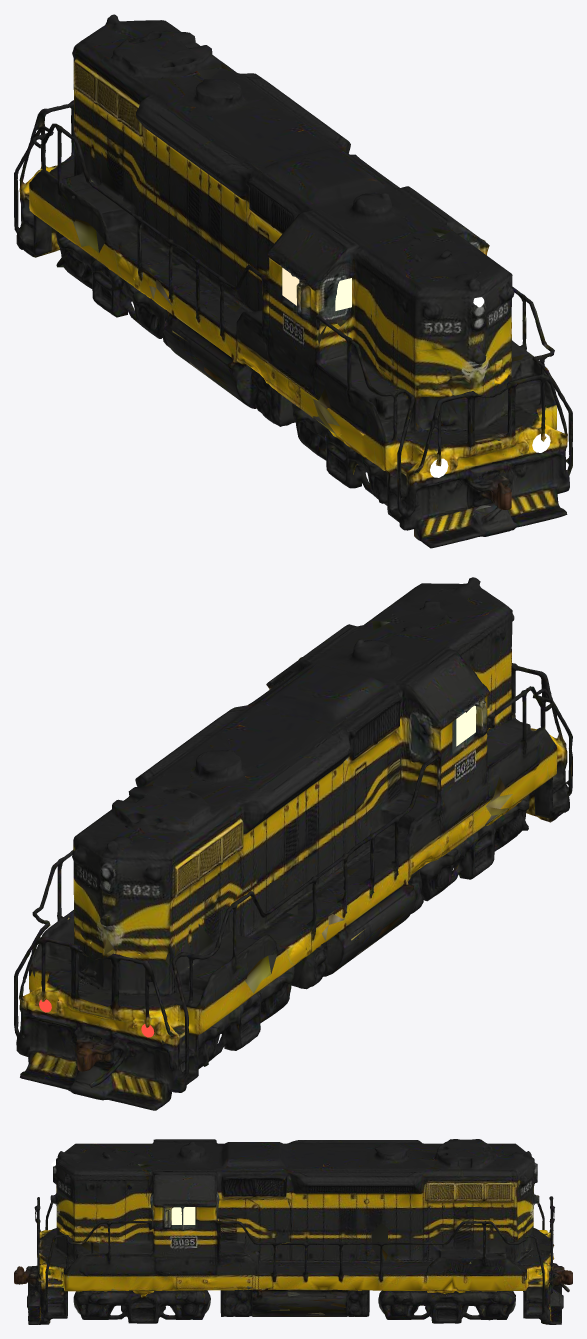
3 views of the same model, one above another, from view 1: azimuth 30°, elevation 25°; view 2: azimuth 150°, elevation 25°; view 3: azimuth 270°, elevation 25° (orthographic). The views are drawn at different scales.
Parts seen in each view (by area): view 1: Mesh_0, win_glass; view 2: Mesh_0; view 3: Mesh_0, win_glass.
Part boxes in pixels (box(x1,y1,x2,y2)): Mesh_0: box(14, 14, 572, 548); win_glass: box(282, 268, 351, 310); Mesh_0: box(14, 577, 572, 1110); Mesh_0: box(14, 1139, 572, 1324); win_glass: box(171, 1207, 195, 1224).
Bounding box in the file's own units: 0.4759 × 0.6033 × 1.91.
Materials: 4 (1 with a texture image).
